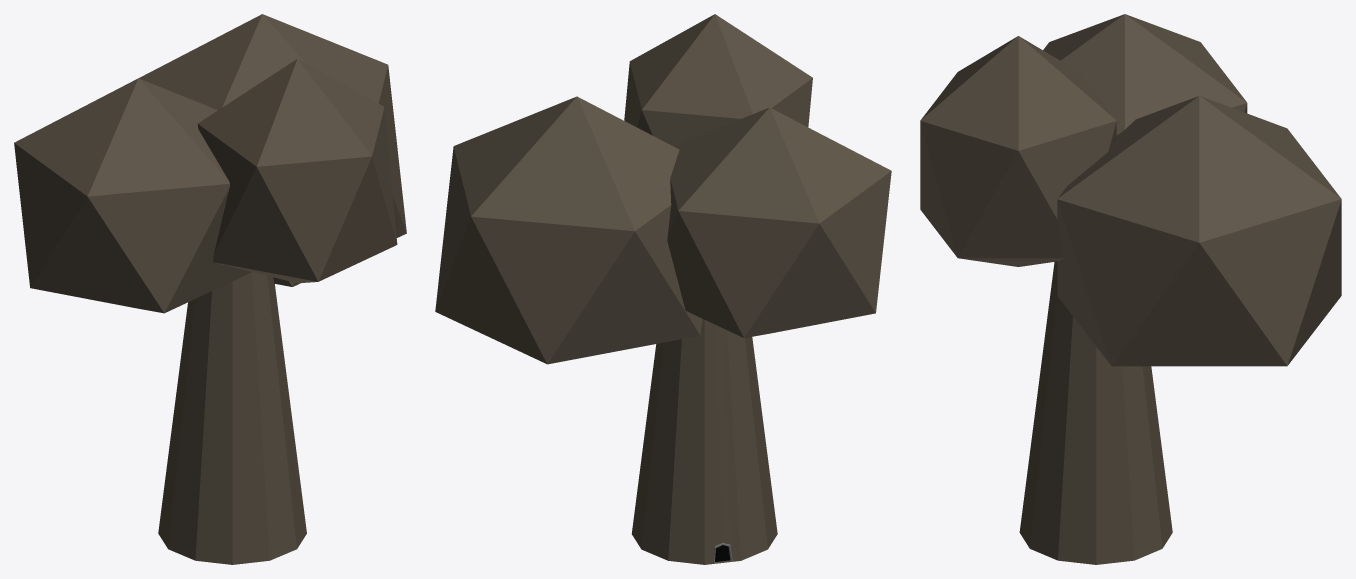
Rendered from tree.fbx.
The picture shows the model from 3 angles, left to right: view 1: azimuth 30°, elevation 25°; view 2: azimuth 150°, elevation 25°; view 3: azimuth 270°, elevation 25°; orthographic projection. The views are drawn at different scales.
Visible parts, largest first — view 1: Icosphere, 나무통, Icosphere.001, Icosphere.002; view 2: Icosphere.002, Icosphere, 나무통, Icosphere.001; view 3: Icosphere.002, Icosphere.001, 나무통, Icosphere.
Part boxes in pixels (<box>): Icosphere: <box>14,78,251,313</box>; 나무통: <box>158,272,306,564</box>; Icosphere.001: <box>197,58,397,283</box>; Icosphere.002: <box>139,14,406,286</box>; Icosphere.002: <box>435,96,702,364</box>; Icosphere: <box>667,107,891,337</box>; 나무통: <box>631,319,777,564</box>; Icosphere.001: <box>624,14,812,146</box>; Icosphere.002: <box>1057,96,1341,366</box>; Icosphere.001: <box>920,36,1116,266</box>; 나무통: <box>1019,261,1172,564</box>; Icosphere: <box>1043,14,1247,135</box>.
Size of the model in its own units: 9928 by 11930 by 8928.
